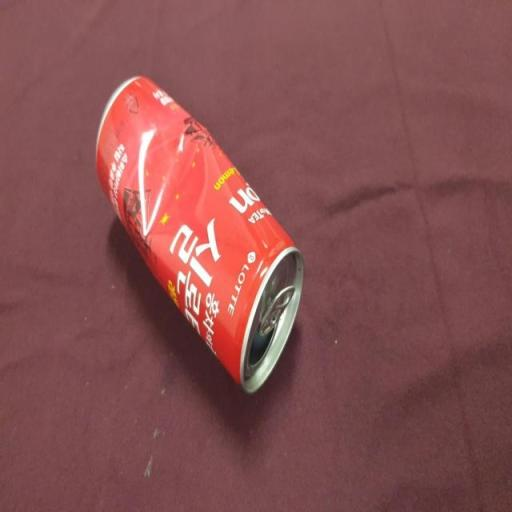metal: (84, 57, 314, 414)
